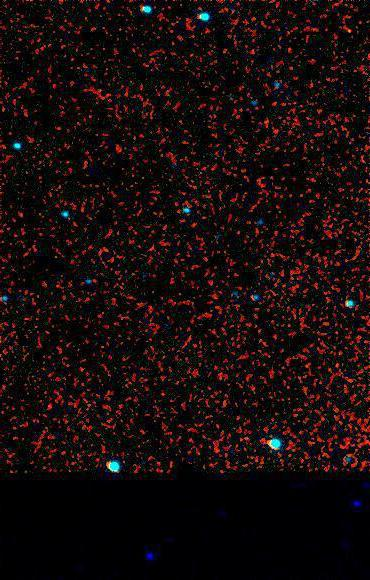star: (331, 19, 361, 49)
